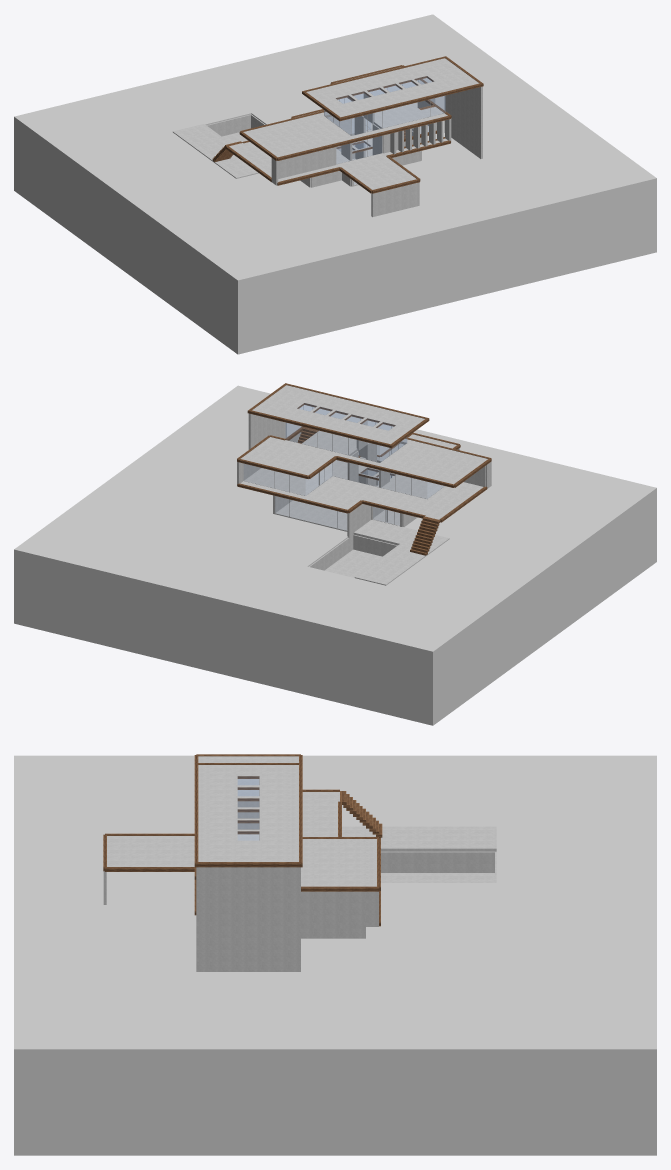
The model's file is SHC SPANISH MANSION 3.fbx.
3 views of the same model, one above another, from view 1: azimuth 30°, elevation 25°; view 2: azimuth 150°, elevation 25°; view 3: azimuth 270°, elevation 25° (orthographic). The views are drawn at different scales.
Parts seen in each view (by area): view 1: Mesh742 Model.001, Mesh742 Model.003, Mesh742 Model.006, Mesh742 Model.008, Mesh742 Model.002; view 2: Mesh742 Model.001, Mesh742 Model.003, Mesh742 Model.008, Mesh742 Model.006, Mesh742 Model.002, Mesh742 Model.007; view 3: Mesh742 Model.001, Mesh742 Model.003, Mesh742 Model.006, Mesh742 Model.002, Mesh742 Model.008.
Boxes of the visible parts, box(x1,y1,x2,y2) form: Mesh742 Model.001: box(14, 14, 656, 354); Mesh742 Model.003: box(173, 61, 482, 217); Mesh742 Model.006: box(212, 56, 483, 193); Mesh742 Model.008: box(324, 76, 445, 183); Mesh742 Model.002: box(173, 58, 479, 181); Mesh742 Model.001: box(14, 385, 656, 725); Mesh742 Model.003: box(237, 388, 491, 584); Mesh742 Model.008: box(244, 403, 443, 530); Mesh742 Model.006: box(237, 383, 491, 555); Mesh742 Model.002: box(240, 385, 487, 585); Mesh742 Model.007: box(244, 403, 441, 530); Mesh742 Model.001: box(14, 755, 656, 1155); Mesh742 Model.003: box(103, 756, 496, 971); Mesh742 Model.006: box(103, 754, 382, 926); Mesh742 Model.002: box(198, 756, 496, 886); Mesh742 Model.008: box(238, 776, 258, 840).
Size of the model in its own units: 5326 by 1816 by 4929.
